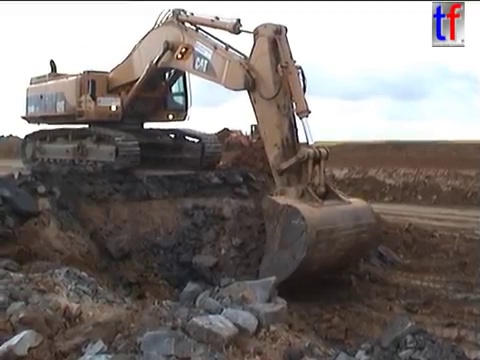excavator: (17, 5, 382, 291)
wheel loader: (214, 121, 289, 159)
